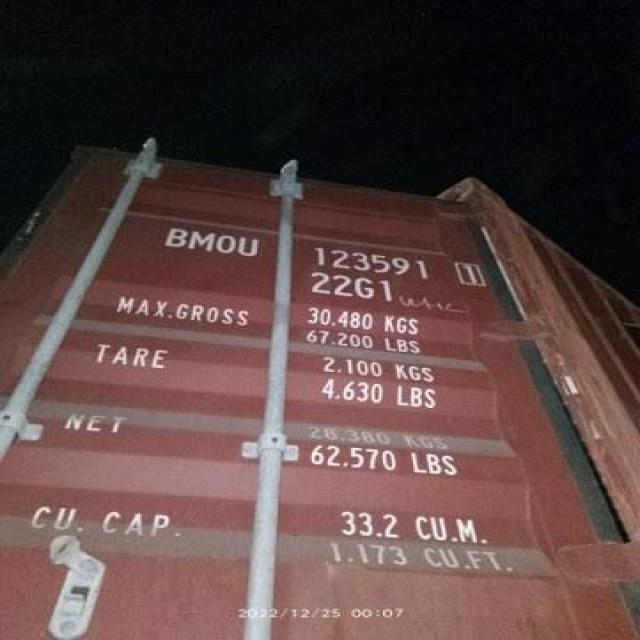container_number_h: (105, 215, 512, 306)
